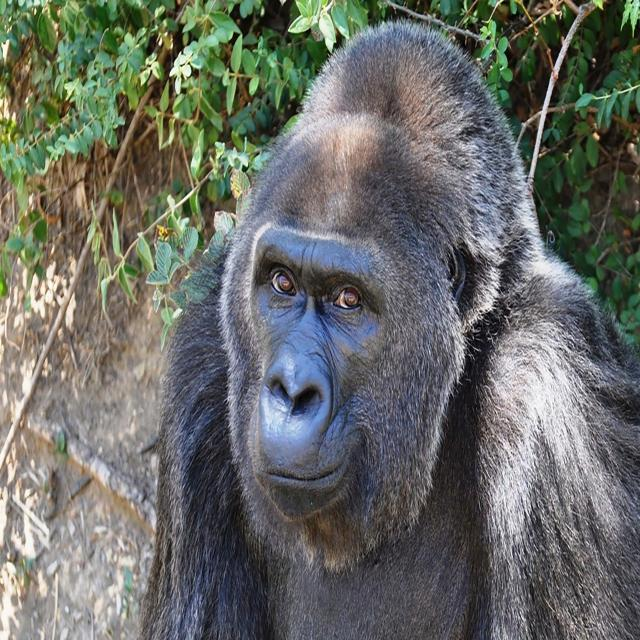Gorilla: (152, 10, 640, 640)
